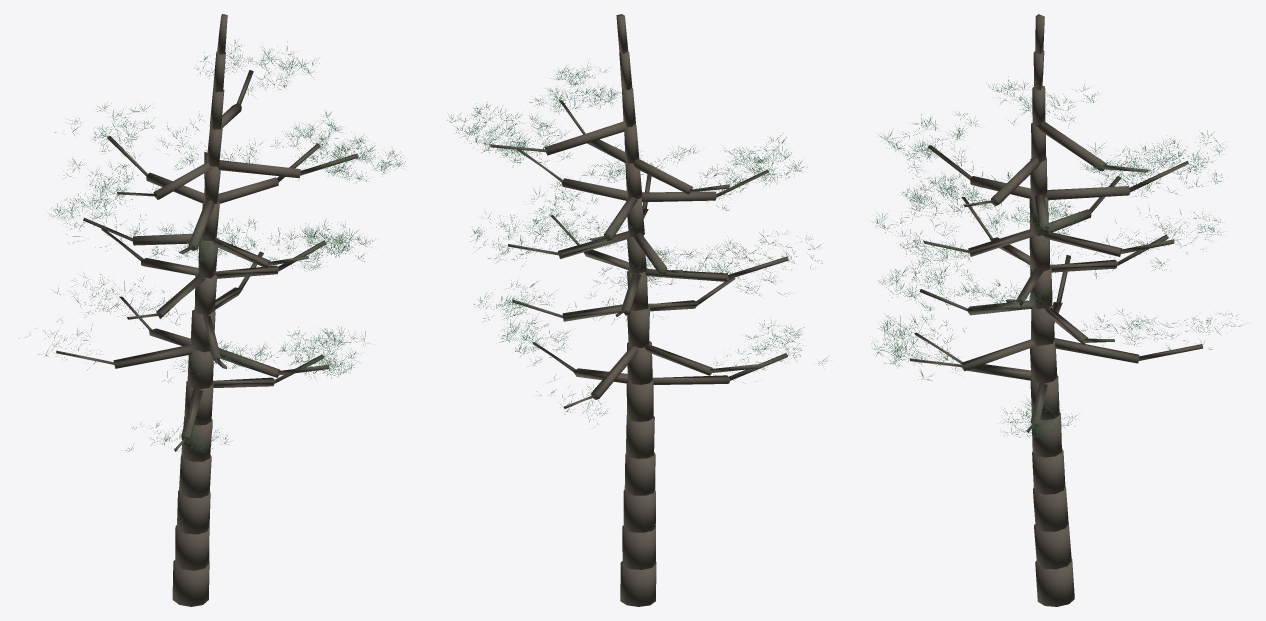
Rendered from Production_CoastalPine_1-mobile.glb.
The picture shows the model from 3 angles, left to right: view 1: azimuth 30°, elevation 25°; view 2: azimuth 150°, elevation 25°; view 3: azimuth 270°, elevation 25°; orthographic projection. The views are drawn at different scales.
Parts seen in each view (by area): view 1: Production_CoastalPine_1_Landscape_PineBark, Production_CoastalPine_1_Landscape_Needles; view 2: Production_CoastalPine_1_Landscape_PineBark, Production_CoastalPine_1_Landscape_Needles; view 3: Production_CoastalPine_1_Landscape_PineBark, Production_CoastalPine_1_Landscape_Needles.
Boxes of the visible parts, <box> form: Production_CoastalPine_1_Landscape_PineBark: <box>56,14,358,606</box>; Production_CoastalPine_1_Landscape_Needles: <box>19,39,406,454</box>; Production_CoastalPine_1_Landscape_PineBark: <box>490,14,788,606</box>; Production_CoastalPine_1_Landscape_Needles: <box>447,63,827,424</box>; Production_CoastalPine_1_Landscape_PineBark: <box>910,14,1203,606</box>; Production_CoastalPine_1_Landscape_Needles: <box>871,76,1241,439</box>.
Bounding box in the file's own units: 7.05 × 12.03 × 7.04.
